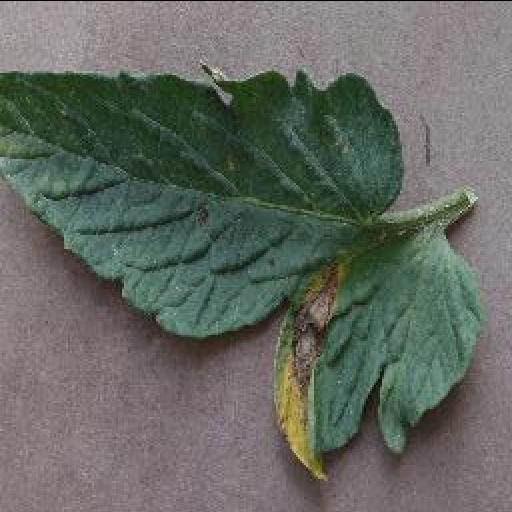Early Blight: (0, 62, 484, 480)
